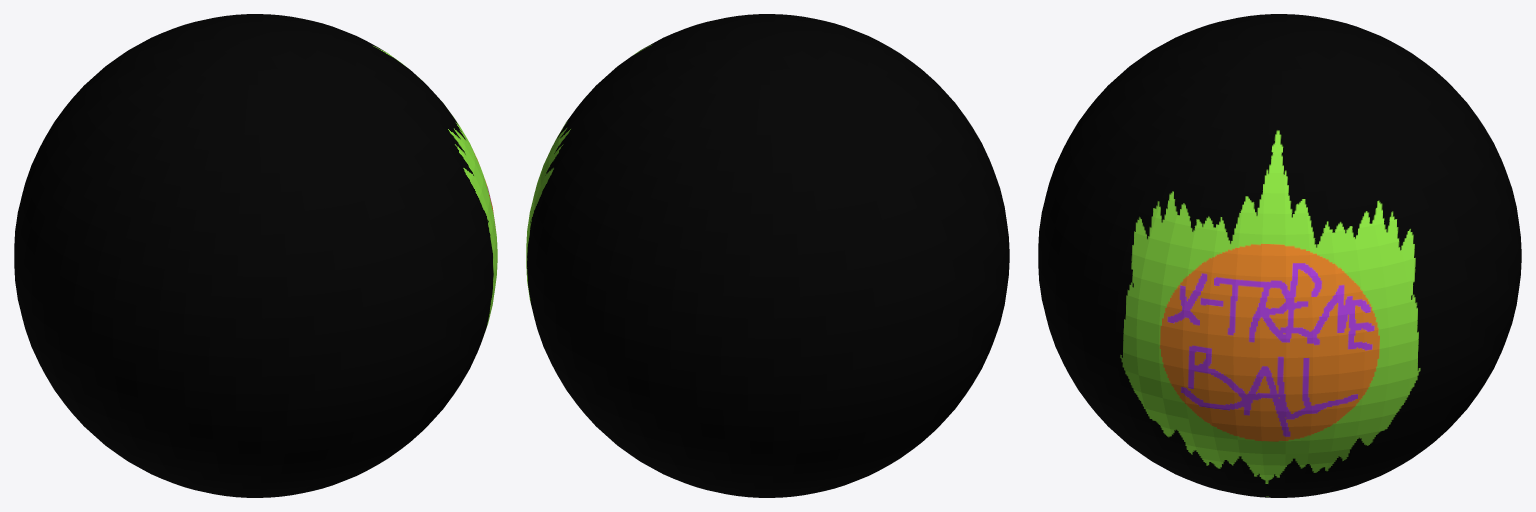
Rendered from xtremeball.fbx.
3 renders of one model, left to right at view 1: azimuth 30°, elevation 25°; view 2: azimuth 150°, elevation 25°; view 3: azimuth 270°, elevation 25°, orthographic.
Parts seen in each view (by area): view 1: Sphere; view 2: Sphere; view 3: Sphere.
Part boxes in pixels (bbox=[...]): Sphere: bbox=[14, 14, 497, 497]; Sphere: bbox=[526, 14, 1009, 497]; Sphere: bbox=[1038, 14, 1521, 497].
Bounding box in the file's own units: 45.48 × 45.5 × 45.46.
